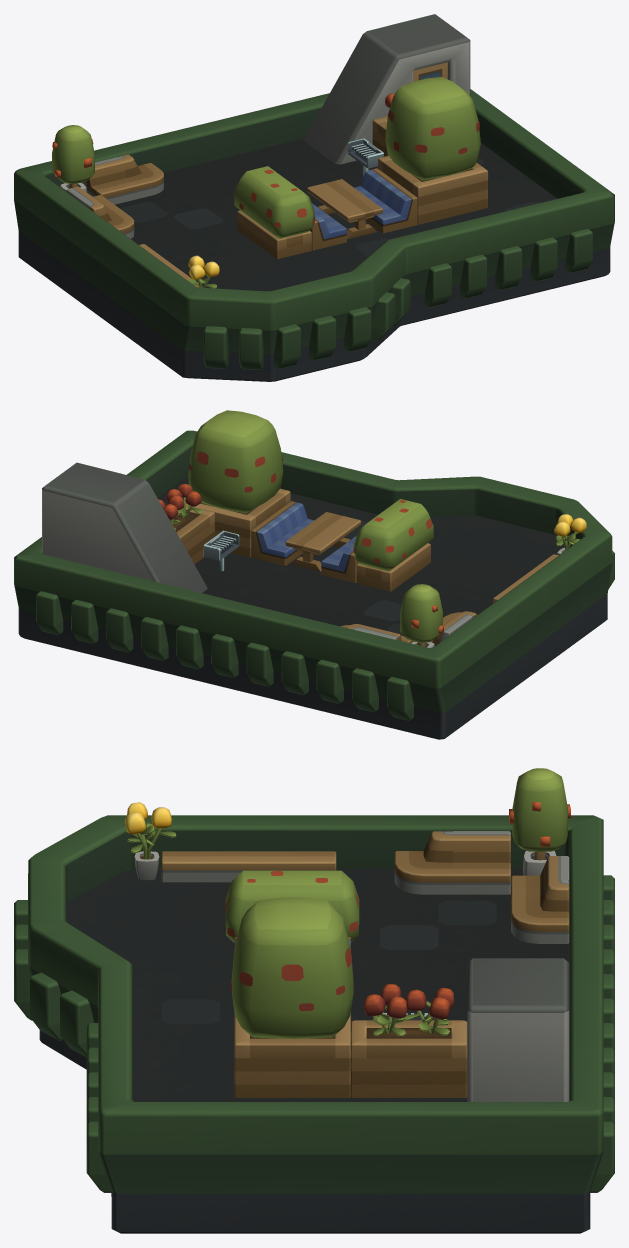
Rendered from appartment_type2_roof_type2_flat_brown_deco.fbx.
3 views of the same model, one above another, from view 1: azimuth 30°, elevation 25°; view 2: azimuth 150°, elevation 25°; view 3: azimuth 270°, elevation 25° (orthographic). The views are drawn at different scales.
Visible parts, largest first — view 1: appartment_type2_roof_type2_flat_brown_deco; view 2: appartment_type2_roof_type2_flat_brown_deco; view 3: appartment_type2_roof_type2_flat_brown_deco.
Boxes of the visible parts, bbox=[...] form: appartment_type2_roof_type2_flat_brown_deco: bbox=[14, 14, 614, 381]; appartment_type2_roof_type2_flat_brown_deco: bbox=[14, 410, 614, 739]; appartment_type2_roof_type2_flat_brown_deco: bbox=[14, 768, 614, 1233].
Size of the model in its own units: 1217 by 463 by 1032.
